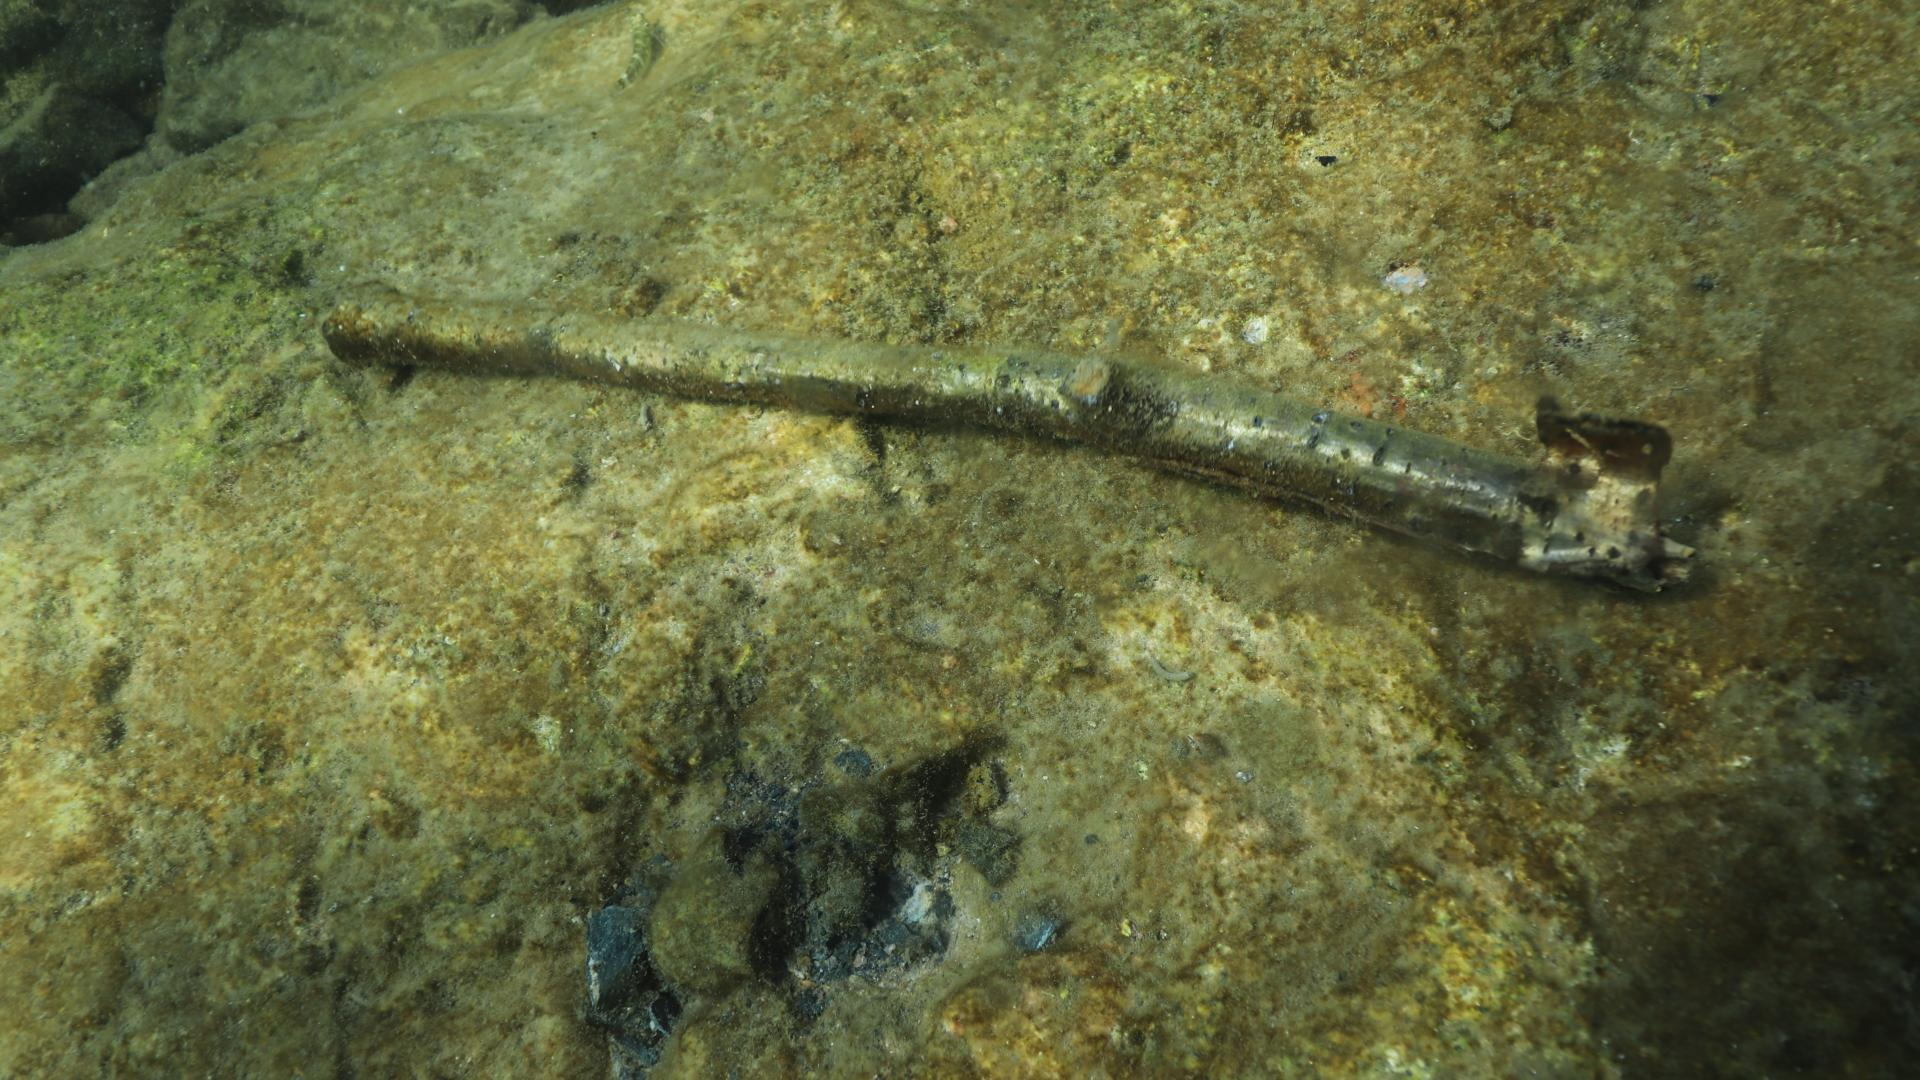wood: (318, 291, 1697, 593)
